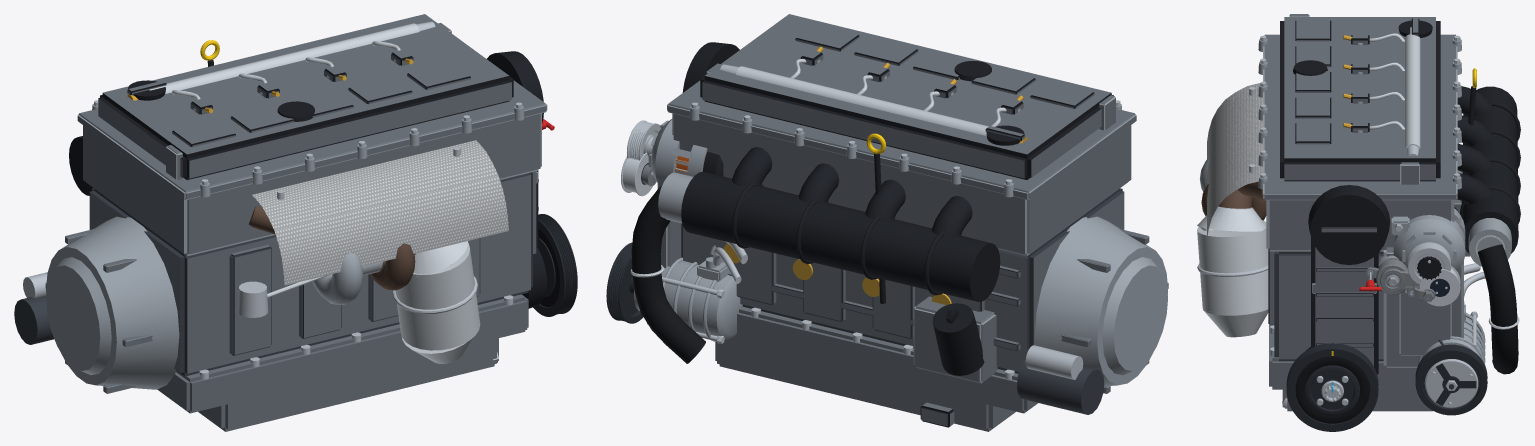
Rendered from ea288_engine.glb.
3 views of the same model, side by side, from view 1: azimuth 30°, elevation 25°; view 2: azimuth 150°, elevation 25°; view 3: azimuth 270°, elevation 25° (orthographic). The views are drawn at different scales.
Parts seen in each view (by area): view 1: EA288_CoreBlock, EA288_PulleyCrank; view 2: EA288_CoreBlock, EA288_ACBody, EA288_AlternatorBody, EA288_PulleyAC, EA288_PulleyAlternator, EA288_TensionerRoller; view 3: EA288_CoreBlock, EA288_PulleyCrank, EA288_PulleyAC, EA288_AlternatorBody, EA288_ACBody, EA288_PulleyAlternator, EA288_TensionerRoller, EA288_TensionerHousing, EA288_TensionerArm, EA288_CrankBolt.
Boxes of the visible parts, x1=… form: EA288_CoreBlock: x1=14, y1=14, x2=547, y2=431; EA288_PulleyCrank: x1=533, y1=214, x2=577, y2=316; EA288_CoreBlock: x1=630, y1=14, x2=1168, y2=431; EA288_ACBody: x1=634, y1=241, x2=747, y2=344; EA288_AlternatorBody: x1=648, y1=119, x2=723, y2=182; EA288_PulleyAC: x1=606, y1=242, x2=643, y2=323; EA288_PulleyAlternator: x1=627, y1=120, x2=661, y2=160; EA288_TensionerRoller: x1=621, y1=152, x2=652, y2=196; EA288_CoreBlock: x1=1197, y1=14, x2=1520, y2=411; EA288_PulleyCrank: x1=1286, y1=343, x2=1378, y2=431; EA288_PulleyAC: x1=1415, y1=344, x2=1487, y2=415; EA288_AlternatorBody: x1=1391, y1=207, x2=1465, y2=293; EA288_ACBody: x1=1418, y1=263, x2=1485, y2=365; EA288_PulleyAlternator: x1=1408, y1=242, x2=1450, y2=284; EA288_TensionerRoller: x1=1419, y1=266, x2=1460, y2=306; EA288_TensionerHousing: x1=1365, y1=259, x2=1407, y2=294; EA288_TensionerArm: x1=1380, y1=268, x2=1419, y2=292; EA288_CrankBolt: x1=1321, y1=380, x2=1343, y2=401.
Size of the model in its own units: 0.9018 by 0.5339 by 0.5852.
Materials: 21 (1 with a texture image).
